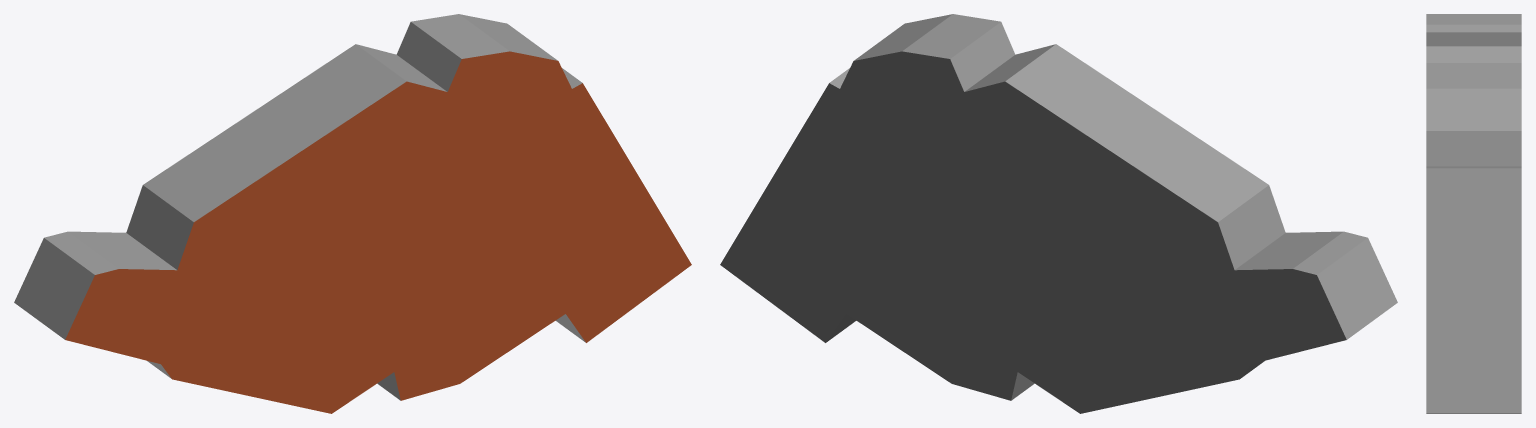
Rendered from construction_3677_assumed_A_Capela_h6m.obj.
The picture shows the model from 3 angles, left to right: view 1: azimuth 30°, elevation 25°; view 2: azimuth 150°, elevation 25°; view 3: azimuth 270°, elevation 25°; orthographic projection. The views are drawn at different scales.
Visible parts, largest first — view 1: construction_3677_assumed_A_Capela; view 2: construction_3677_assumed_A_Capela; view 3: construction_3677_assumed_A_Capela.
Boxes of the visible parts, x1,y1,x2,y2 form: construction_3677_assumed_A_Capela: (14, 14, 691, 413); construction_3677_assumed_A_Capela: (720, 14, 1397, 413); construction_3677_assumed_A_Capela: (1426, 14, 1521, 413).
Bounding box in the file's own units: 42.49 × 21.18 × 6.
